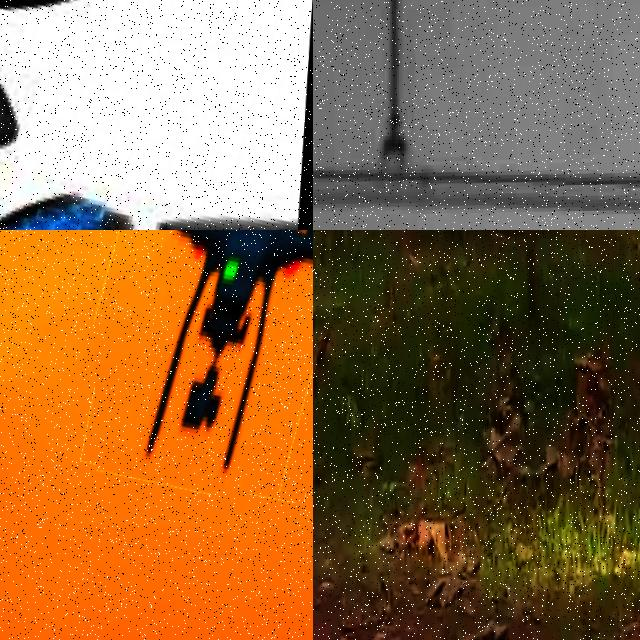drone: (0, 0, 313, 230), (90, 230, 313, 495)
